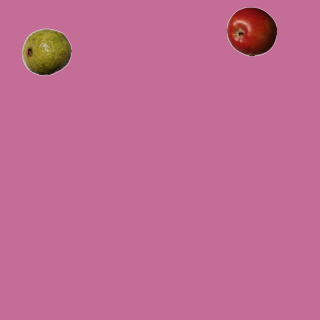Apple Braeburn: (226, 6, 276, 56)
Guava: (21, 26, 71, 76)
